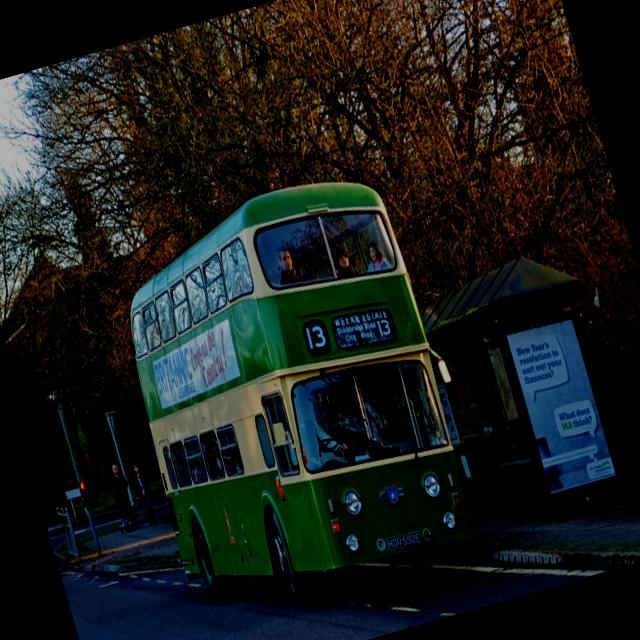Vehicle: (88, 159, 501, 640)
